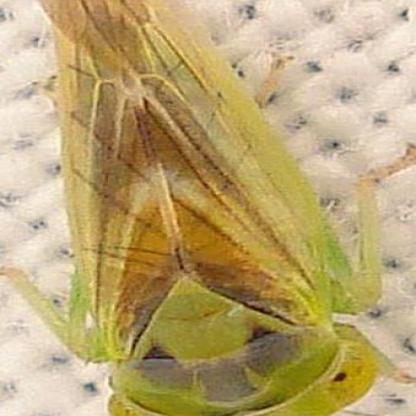green-leafhopper: (24, 2, 395, 416)
